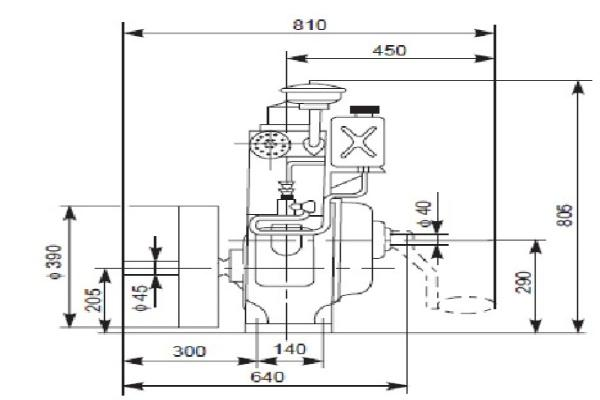dimensions: (285, 9, 333, 37), (42, 242, 67, 283), (129, 281, 154, 318), (508, 265, 534, 299), (409, 197, 436, 227), (549, 200, 576, 230), (77, 285, 105, 313), (245, 367, 291, 384), (369, 43, 412, 61), (269, 338, 312, 356), (171, 341, 213, 359)
